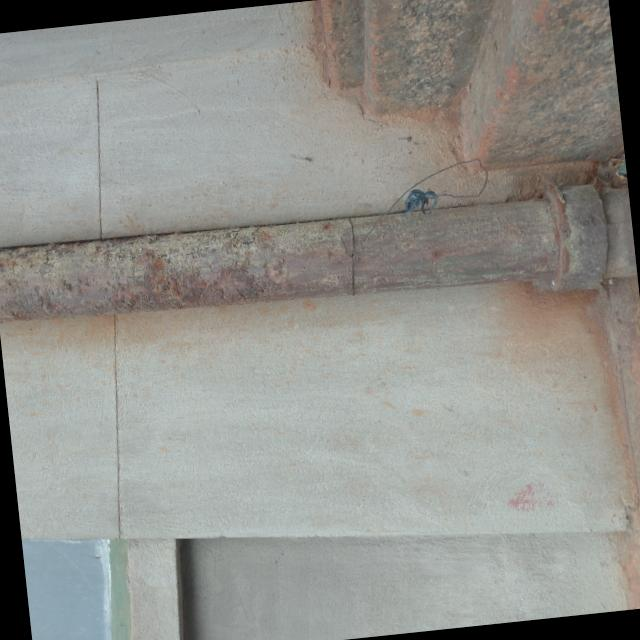gas: (0, 168, 638, 356)
